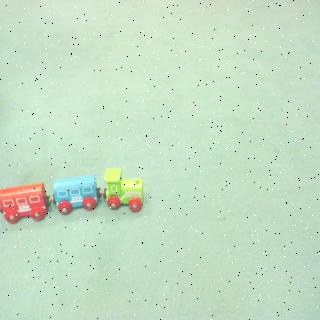train: (1, 168, 148, 228)
